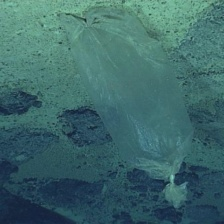plastic_bag: (53, 3, 202, 210)
